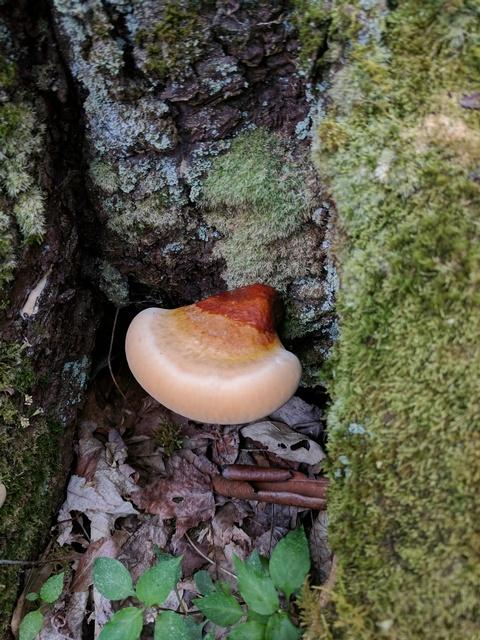poisonous_mushroom: (123, 281, 303, 425)
